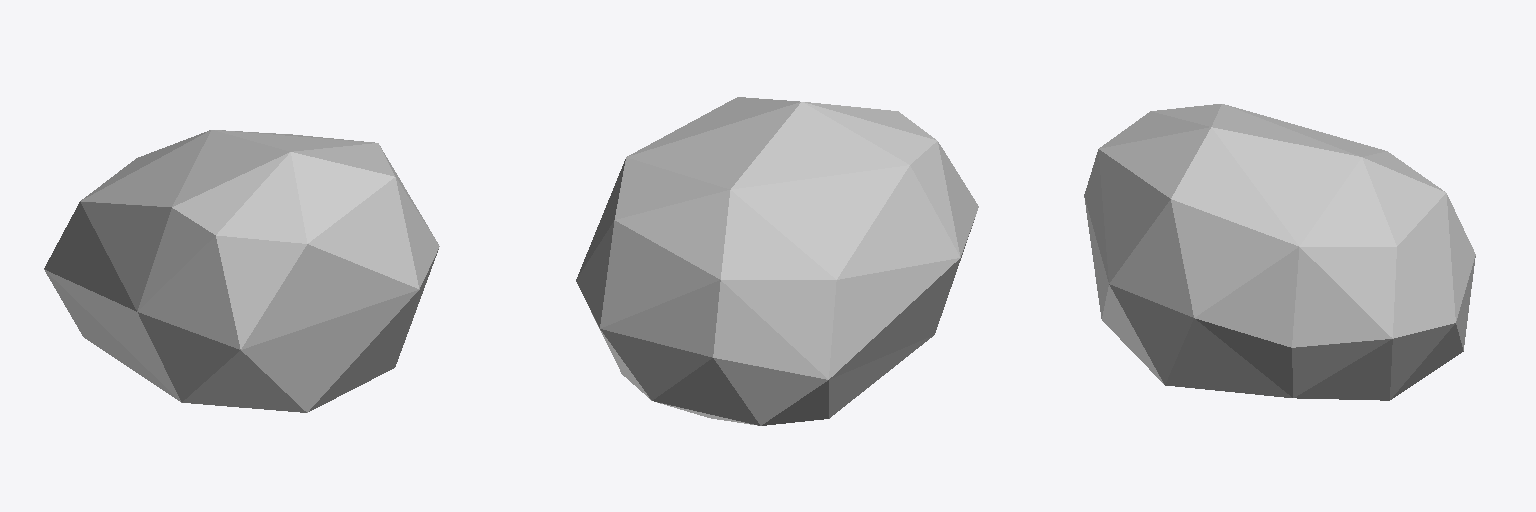
The model's file is player bullet.obj.
The picture shows the model from 3 angles: view 1: azimuth 30°, elevation 25°; view 2: azimuth 150°, elevation 25°; view 3: azimuth 270°, elevation 25°; orthographic projection.
Visible parts, largest first — view 1: Cube_Cube.001; view 2: Cube_Cube.001; view 3: Cube_Cube.001.
Boxes of the visible parts, box(x1,y1,x2,y2) form: Cube_Cube.001: box(44, 130, 439, 412); Cube_Cube.001: box(576, 97, 978, 425); Cube_Cube.001: box(1084, 104, 1475, 400).
Size of the model in its own units: 2.19 by 1.74 by 2.39.